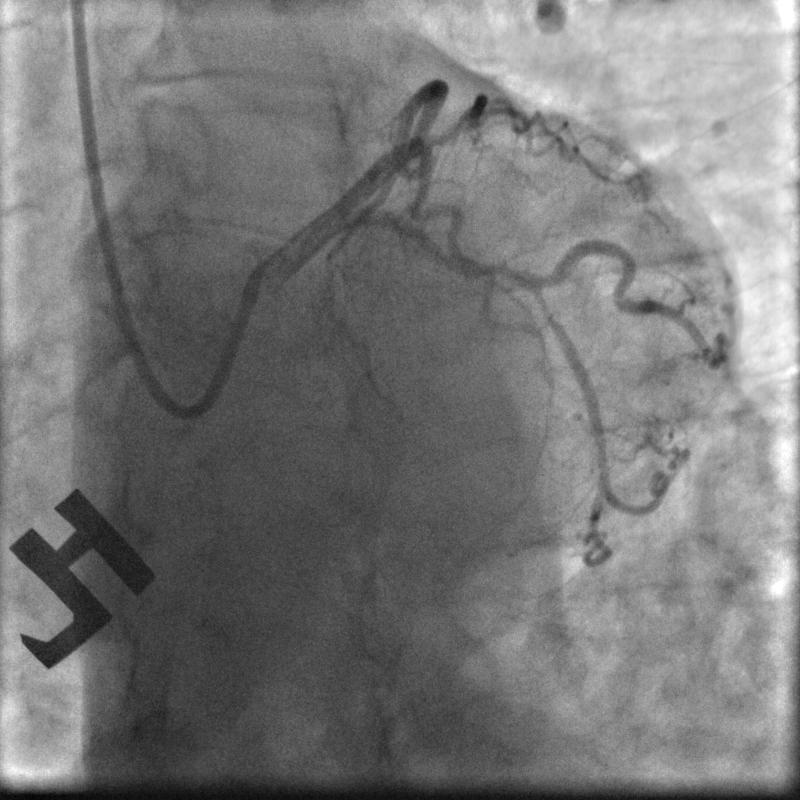Stenosis: (485, 259, 553, 309)
